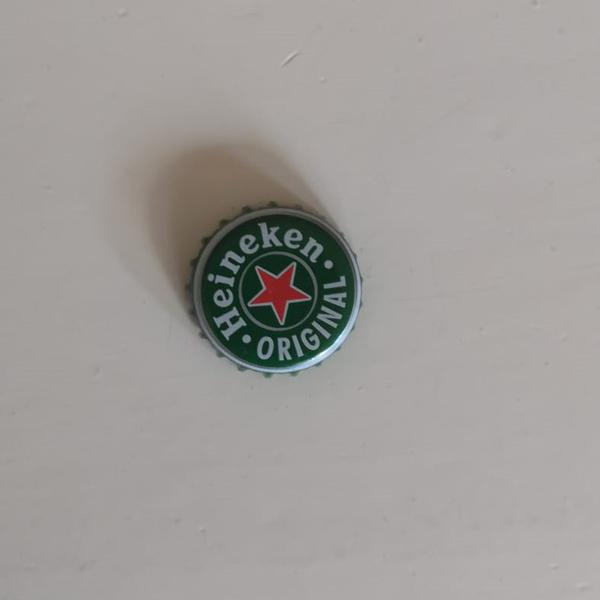heineken: (187, 196, 366, 384)
